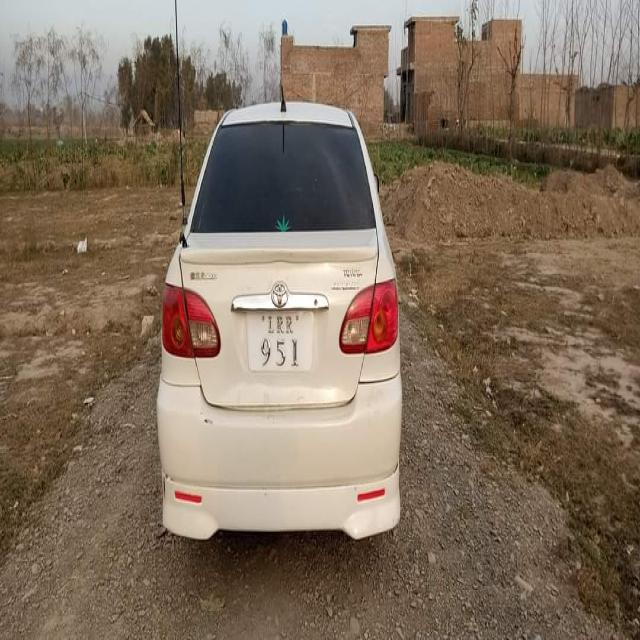white: (155, 103, 424, 529)
